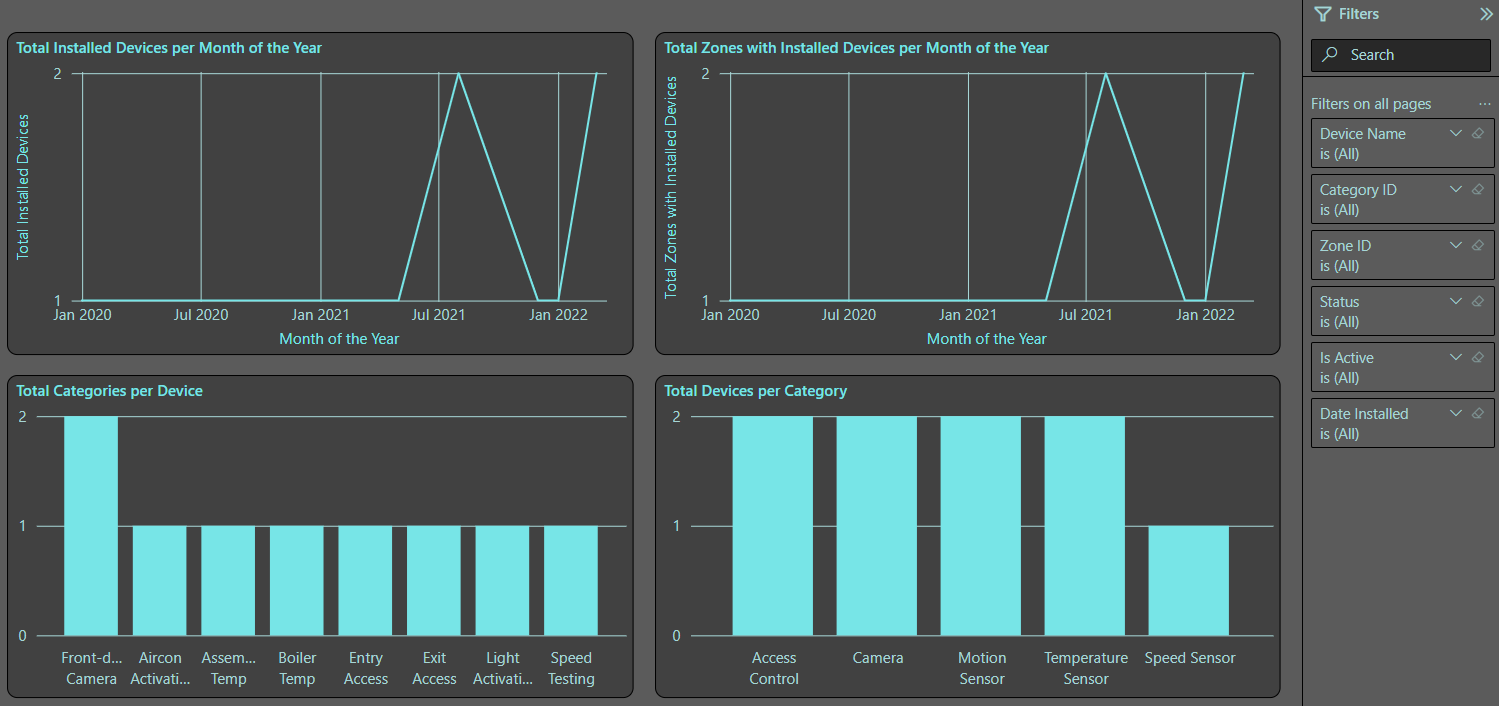

The dashboard page shown, as its layout file describes it:
{"tool":"powerbi","page":{"name":"Device Registration","canvas":[1280,720],"ordinal":2},"visuals":[{"type":"columnChart","title":"Total Categories per Device","fields":{"Y":["CountNonNull(Device.Category ID)"],"Category":["Device.Device Name"]},"box":[24,368,608,273],"z":0},{"type":"lineChart","title":"Total Installed Devices per Month of the Year","fields":{"Category":["Device.Date Installe.Variation.Date Hierarchy.Year","Device.Date Installe.Variation.Date Hierarchy.Month"],"Y":["CountNonNull(Device.ID)"]},"box":[24,39,477,311],"z":1000},{"type":"lineChart","title":"Total Zones with Installed Devices per Month of the Year","fields":{"Category":["Device.Date Installe.Variation.Date Hierarchy.Year","Device.Date Installe.Variation.Date Hierarchy.Month"],"Y":["CountNonNull(Device.Zone ID)"]},"box":[520,39,477,311],"z":2000},{"type":"columnChart","title":"Total Devices per Category","fields":{"Category":["Device.Category ID"],"Y":["CountNonNull(Device.Device Name)"]},"box":[650,368,605,273],"z":3000}]}

Visuals, with their boxes on the page's 1280x720 design canvas (x1, y1, x2, y2). These are canvas units, not pixel positions in the 1499x706 screenshot, which may show the page scaled, cropped or inside an application window:
"Total Categories per Device" columnChart: bbox(24, 368, 632, 641)
"Total Installed Devices per Month of the Year" lineChart: bbox(24, 39, 501, 350)
"Total Zones with Installed Devices per Month of the Year" lineChart: bbox(520, 39, 997, 350)
"Total Devices per Category" columnChart: bbox(650, 368, 1255, 641)
